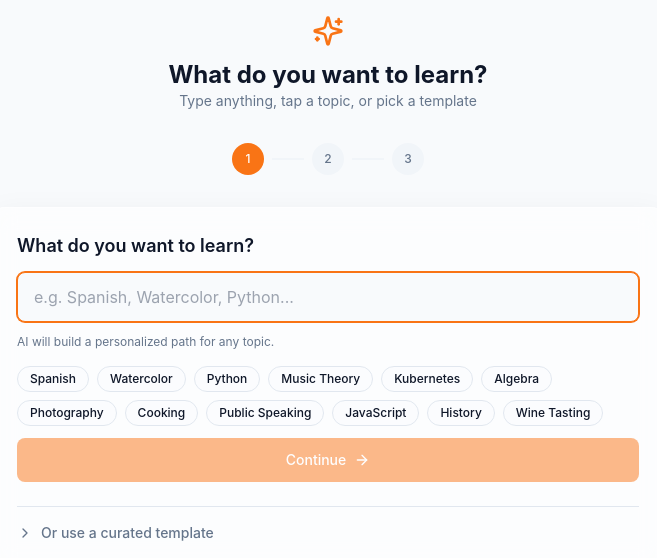
Test: Onboarding › free-text submit advances to the goals step
Type "Distributed systems" into the field with test id "topic-freetext-input" at (328, 296), box x1=17 y1=272 x2=639 y2=322
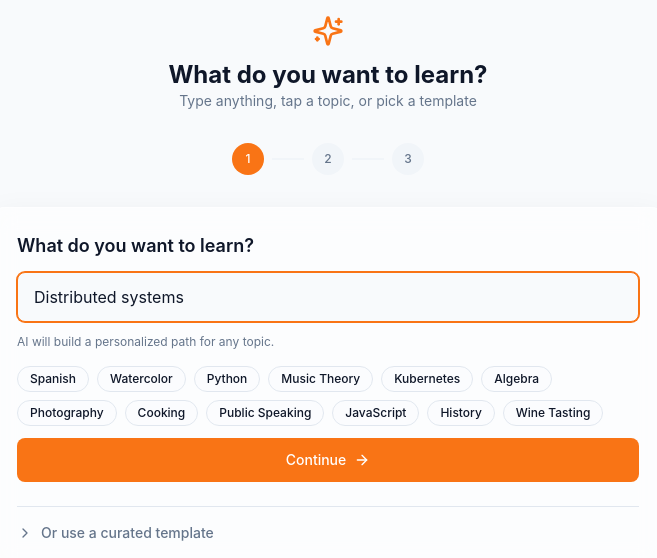
Click the button with test id "topic-freetext-submit" at (328, 460), box x1=17 y1=438 x2=639 y2=482
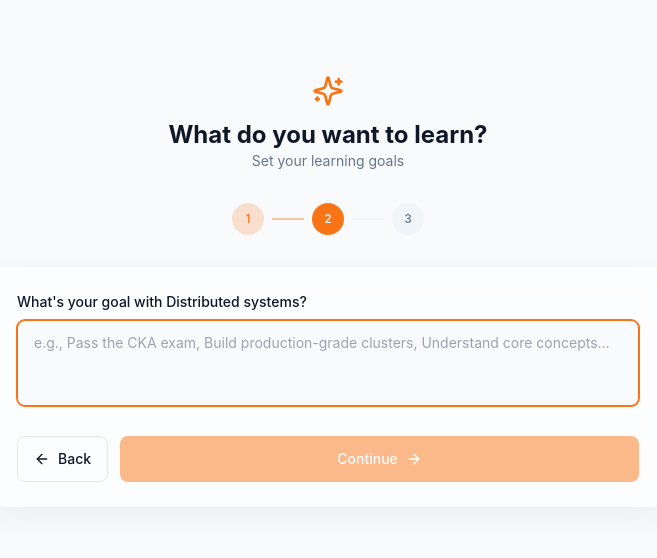
expect the text "Set your learning goals" is shown: met, box x1=252 y1=152 x2=404 y2=169
expect the text box with placeholder "Pass the CKA" is shown: met, box x1=17 y1=320 x2=639 y2=406
